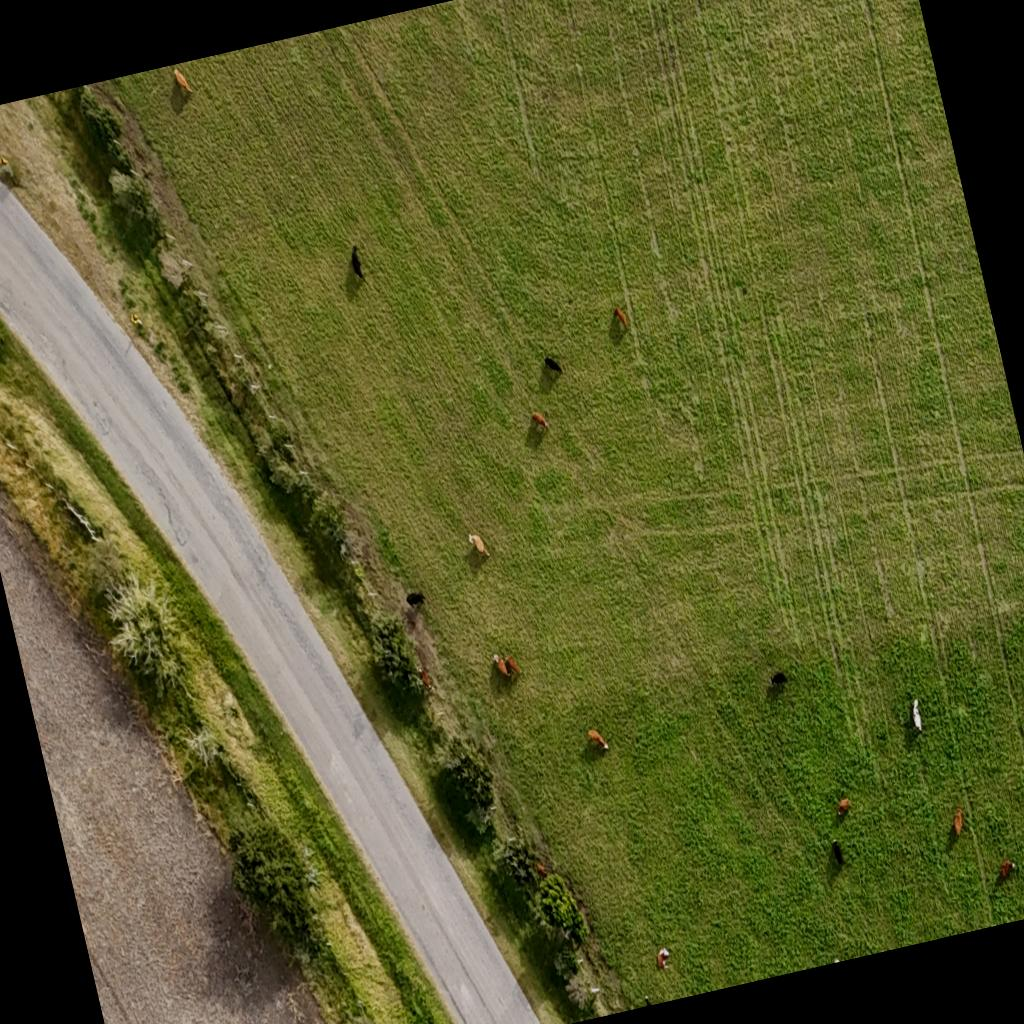cow: (907, 696, 928, 738), (467, 530, 490, 562), (172, 66, 194, 99), (348, 244, 366, 281), (587, 726, 610, 754), (950, 806, 968, 838), (654, 946, 674, 972), (998, 858, 1019, 882), (494, 652, 510, 680), (830, 840, 846, 868), (834, 796, 854, 818), (531, 410, 549, 434), (544, 353, 562, 377), (404, 590, 426, 609), (418, 666, 434, 692), (614, 306, 630, 332), (504, 654, 521, 678), (770, 670, 788, 688), (536, 862, 548, 878)
